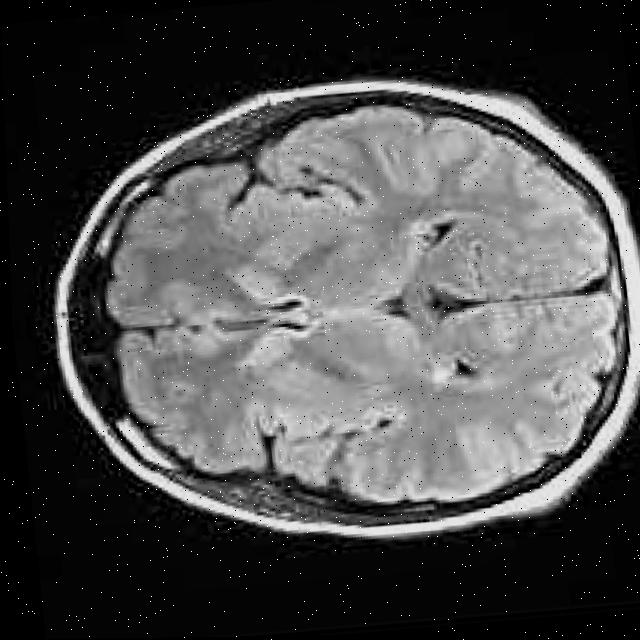NoTumor: (22, 55, 640, 569)
